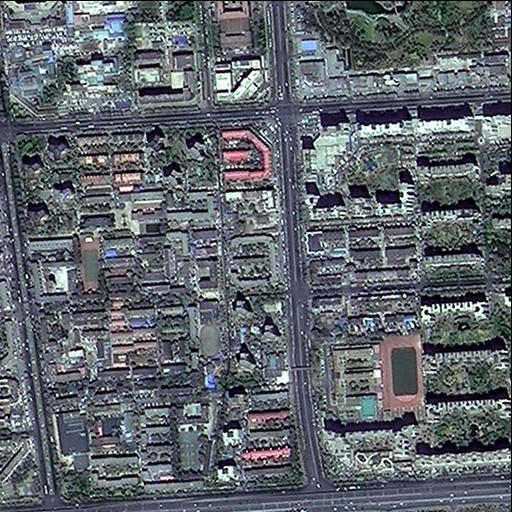school: (308, 331, 428, 424), (77, 194, 164, 291), (190, 294, 224, 361)
